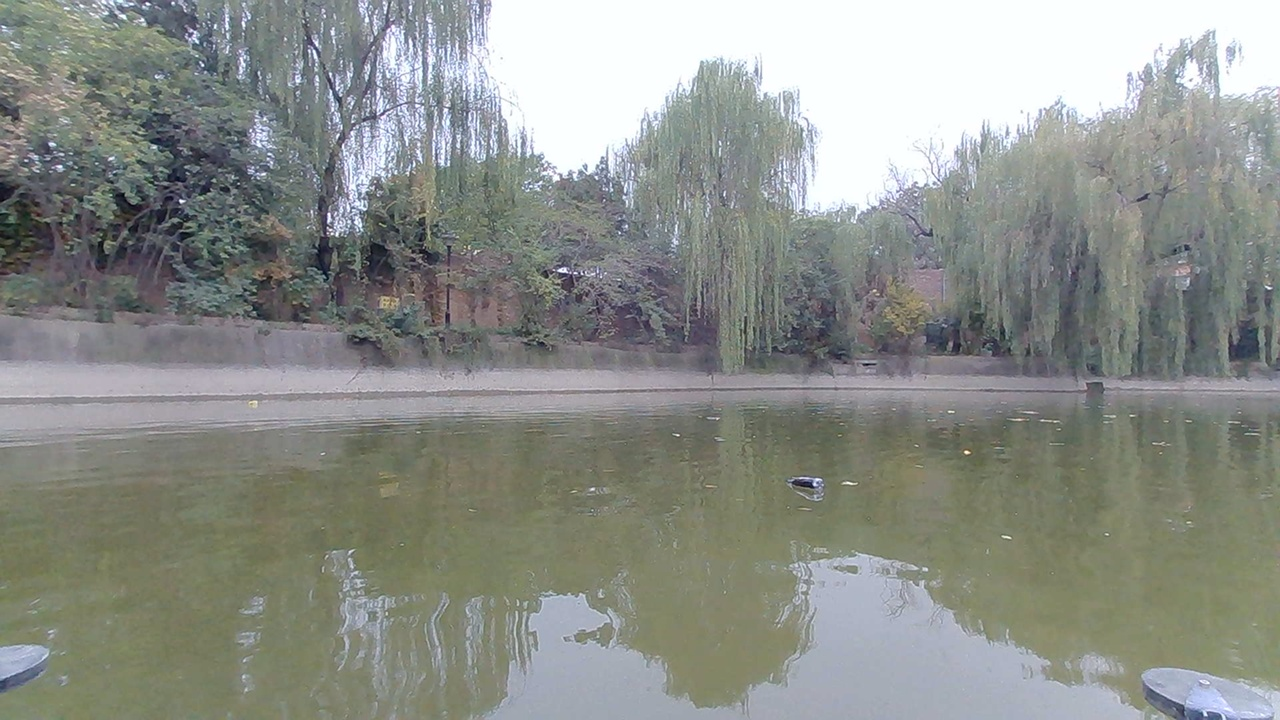bottle: (784, 467, 838, 501)
